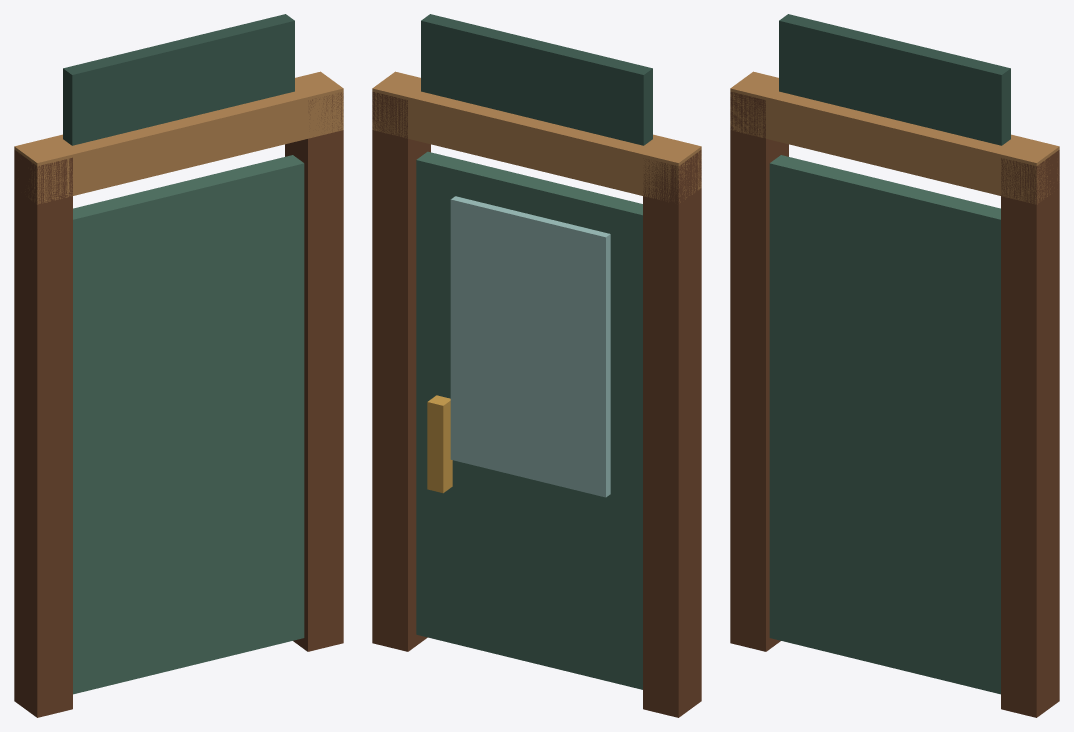
The model's file is cafe-door.glb.
3 renders of one model, left to right at view 1: azimuth 30°, elevation 25°; view 2: azimuth 150°, elevation 25°; view 3: azimuth 330°, elevation 25°, orthographic.
Visible parts, largest first — view 1: DoorPanel, DoorPostLeft, DoorPostRight, DoorSign, DoorHeader; view 2: DoorPanel, DoorWindow, DoorPostLeft, DoorPostRight, DoorSign, DoorHeader, DoorHandle; view 3: DoorPanel, DoorPostRight, DoorPostLeft, DoorSign, DoorHeader.
Part boxes in pixels (box(x1,y1,x2,y2)): DoorPanel: box(73, 155, 304, 694); DoorPostLeft: box(14, 150, 72, 717); DoorPostRight: box(285, 92, 343, 651); DoorSign: box(63, 14, 294, 145); DoorHeader: box(14, 71, 343, 204); DoorPanel: box(416, 151, 642, 689); DoorWindow: box(450, 196, 610, 497); DoorPostLeft: box(643, 150, 701, 717); DoorPostRight: box(372, 92, 430, 651); DoorSign: box(421, 14, 652, 145); DoorHeader: box(372, 71, 701, 202); DoorHandle: box(427, 395, 452, 493); DoorPanel: box(769, 155, 1000, 694); DoorPostRight: box(1001, 150, 1059, 717); DoorPostLeft: box(730, 92, 788, 651); DoorSign: box(779, 14, 1010, 145); DoorHeader: box(730, 71, 1059, 204).
Bounding box in the file's own units: 1.54 × 3.02 × 0.24.
